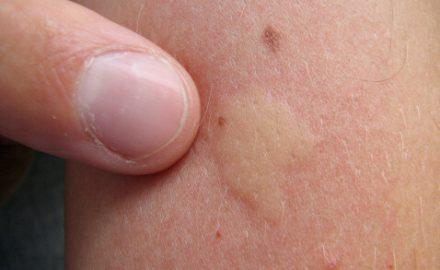Reupload: (194, 90, 313, 223)
